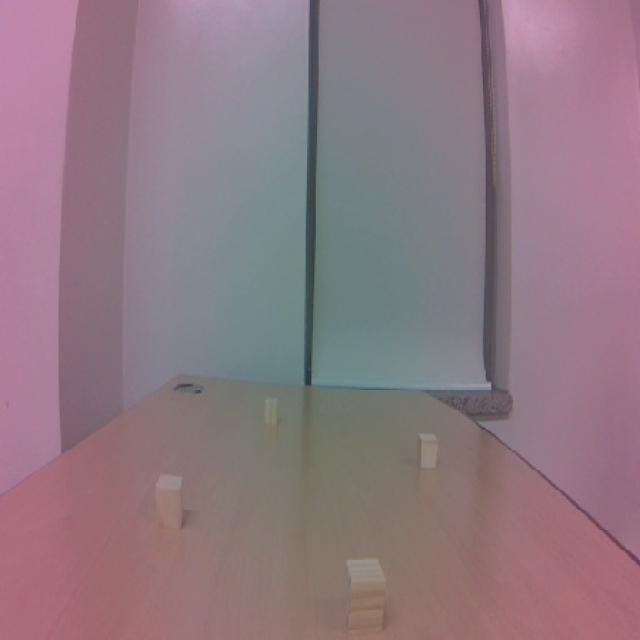obstacle: (337, 552, 402, 640), (148, 463, 192, 541), (412, 427, 446, 481)
